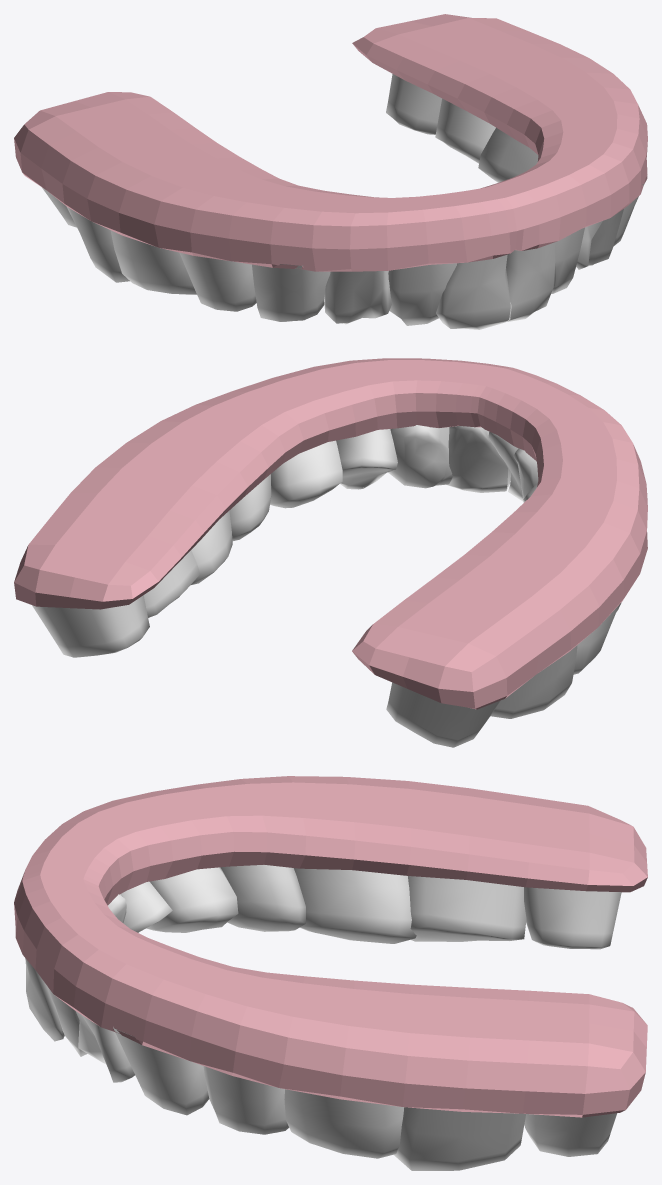
The model's file is TopTeethSet 1.fbx.
3 views of the same model, one above another, from view 1: azimuth 30°, elevation 25°; view 2: azimuth 150°, elevation 25°; view 3: azimuth 270°, elevation 25° (orthographic). The views are drawn at different scales.
Visible parts, largest first — view 1: TopGum, TopTeeth.009, TopTeeth.012, TopTeeth.014, TopTeeth.013, TopTeeth.011, TopTeeth.010, TopTeeth.008, TopTeeth.001, TopTeeth.002, TopTeeth.003, TopTeeth.015 (+2 smaller); view 2: TopGum, TopTeeth.001, TopTeeth.016, TopTeeth.005, TopTeeth.008, TopTeeth.007, TopTeeth.006, TopTeeth.015, TopTeeth.002, TopTeeth.003, TopTeeth.004, TopTeeth.014 (+2 smaller); view 3: TopGum, TopTeeth.014, TopTeeth.015, TopTeeth.002, TopTeeth.003, TopTeeth.016, TopTeeth.013, TopTeeth.012, TopTeeth.005, TopTeeth.004, TopTeeth.001, TopTeeth.006 (+3 smaller).
Part boxes in pixels (box(x1,y1,x2,y2)): TopGum: box(14, 14, 647, 271); TopTeeth.009: box(436, 254, 510, 329); TopTeeth.012: box(252, 264, 330, 321); TopTeeth.014: box(110, 230, 196, 294); TopTeeth.013: box(179, 252, 256, 311); TopTeeth.011: box(324, 271, 391, 324); TopTeeth.010: box(388, 263, 456, 325); TopTeeth.008: box(506, 242, 555, 321); TopTeeth.001: box(386, 74, 441, 134); TopTeeth.002: box(435, 98, 495, 163); TopTeeth.003: box(478, 127, 538, 182); TopTeeth.015: box(66, 206, 129, 282); TopGum: box(14, 358, 647, 709); TopTeeth.001: box(32, 595, 149, 657); TopTeeth.016: box(386, 682, 500, 747); TopTeeth.005: box(270, 440, 342, 508); TopTeeth.008: box(446, 426, 510, 492); TopTeeth.007: box(388, 425, 452, 488); TopTeeth.006: box(336, 429, 397, 489); TopTeeth.015: box(490, 645, 577, 718); TopTeeth.002: box(143, 550, 199, 617); TopTeeth.003: box(191, 511, 232, 584); TopTeeth.004: box(229, 474, 271, 540); TopTeeth.014: box(573, 605, 618, 674); TopGum: box(14, 776, 647, 1117); TopTeeth.014: box(294, 868, 416, 943); TopTeeth.015: box(408, 876, 526, 941); TopTeeth.002: box(393, 1107, 525, 1170); TopTeeth.003: box(284, 1089, 403, 1158); TopTeeth.016: box(524, 887, 621, 949); TopTeeth.013: box(220, 865, 305, 931); TopTeeth.012: box(146, 867, 238, 932); TopTeeth.005: box(113, 1027, 209, 1115); TopTeeth.004: box(203, 1066, 288, 1134); TopTeeth.001: box(524, 1113, 616, 1156); TopTeeth.006: box(75, 1011, 134, 1082).
Bounding box in the file's own units: 311 × 90.07 × 295.
